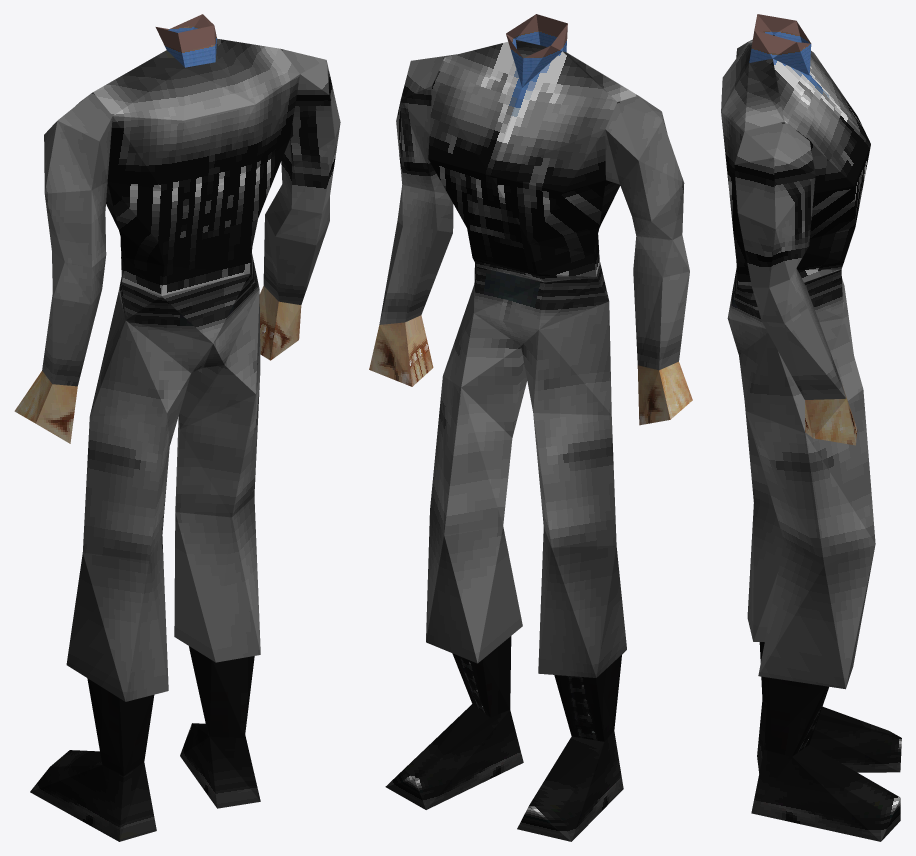
Rendered from primary_011.glb.
3 renders of one model, left to right at view 1: azimuth 30°, elevation 25°; view 2: azimuth 150°, elevation 25°; view 3: azimuth 270°, elevation 25°, orthographic. The views are drawn at different scales.
Visible parts, largest first — view 1: Object; view 2: Object; view 3: Object.
Part boxes in pixels (box(x1,y1,x2,y2)): Object: box(14, 14, 340, 841); Object: box(369, 14, 692, 841); Object: box(721, 14, 901, 841).
Bounding box in the file's own units: 0.7427 × 1.83 × 0.3885.
Materials: 69 (69 with a texture image).
